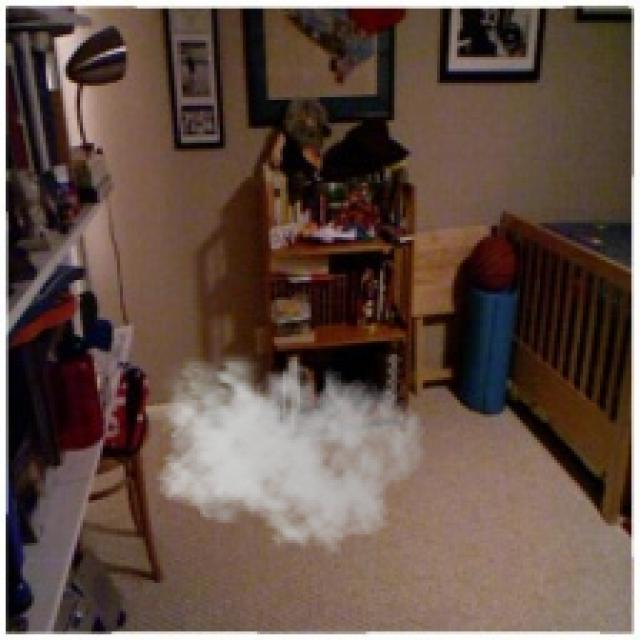smoke: (148, 343, 426, 554)
